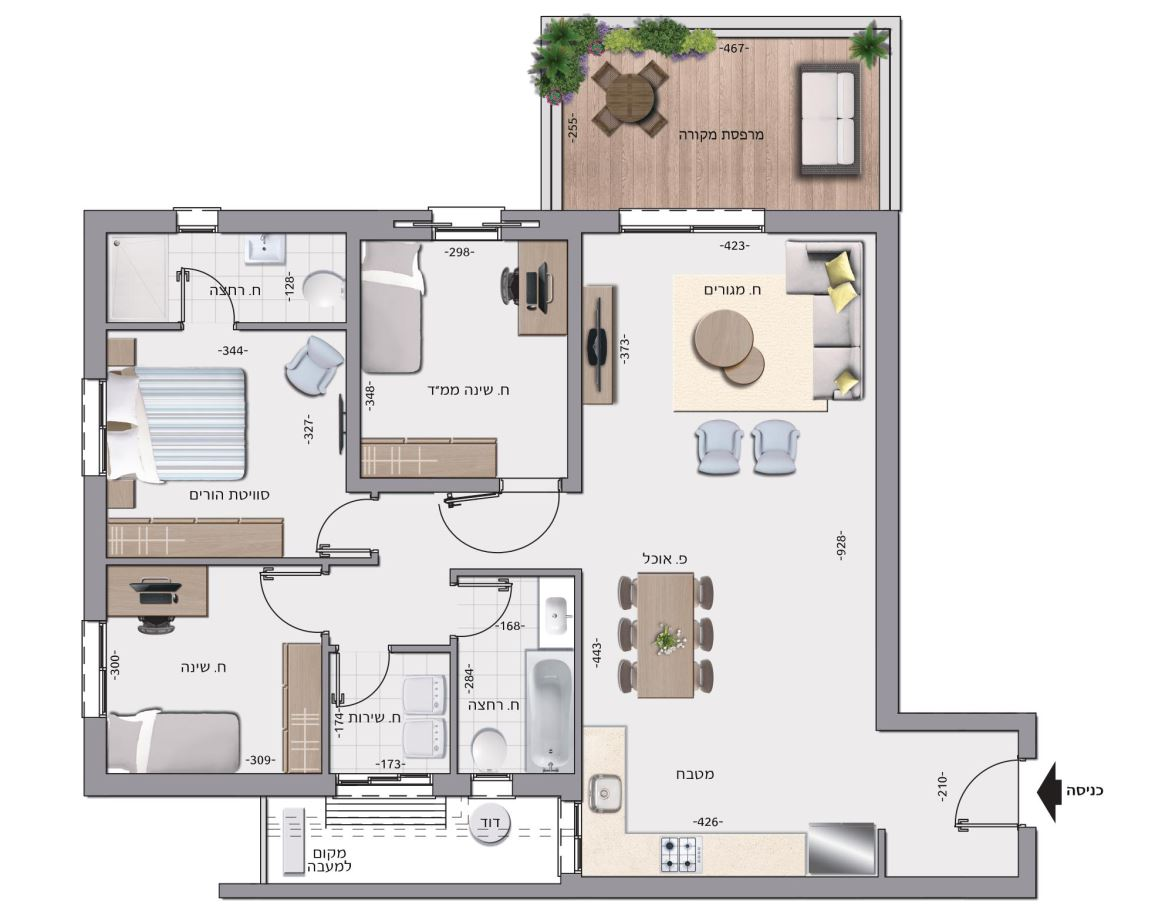room: (566, 209, 900, 738), (555, 708, 1038, 905), (77, 319, 365, 571), (345, 198, 585, 495), (80, 560, 332, 800), (80, 205, 363, 331), (79, 208, 362, 334), (447, 567, 587, 800), (320, 639, 459, 805)
